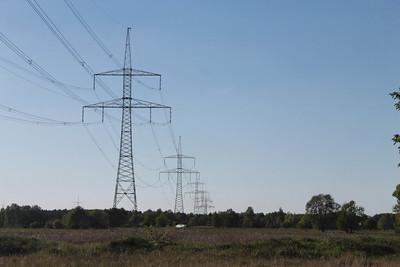power_tower: (80, 25, 171, 216), (161, 126, 197, 223)
